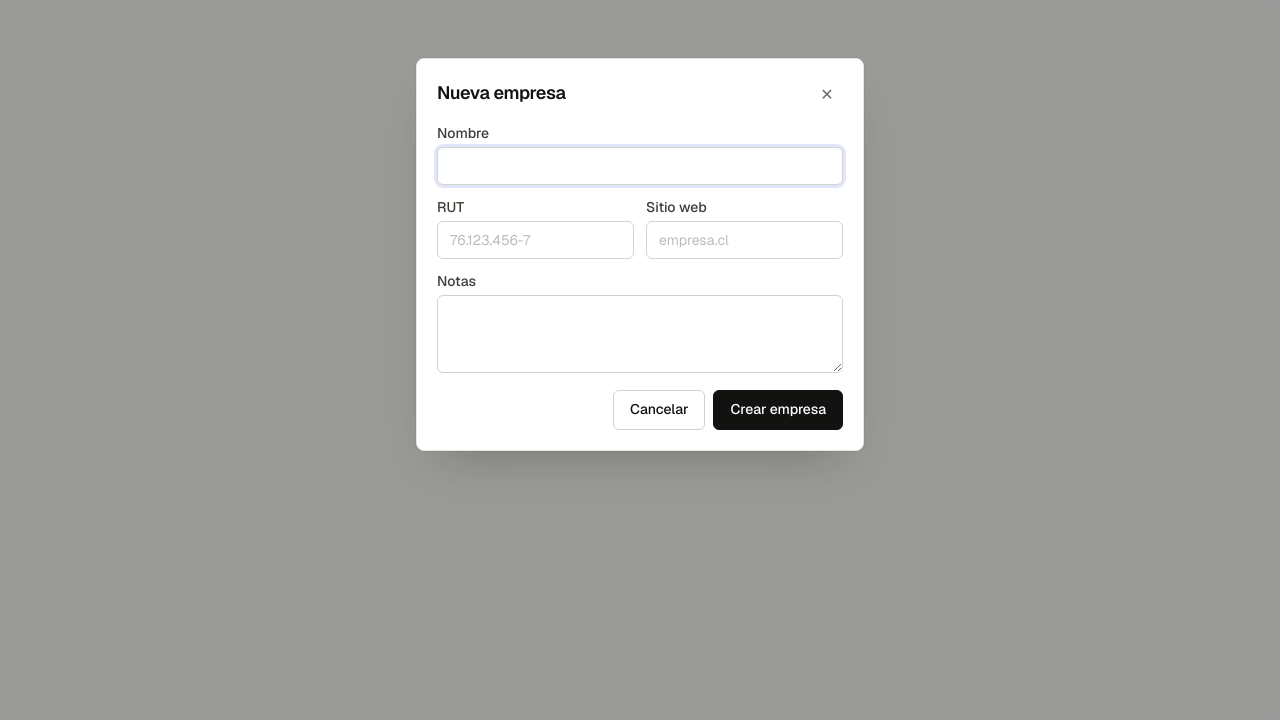
Scenario: EmpresaDialogo › al recibir 409 ofrece abrir la empresa existente
Later steps or results of the test are not shown.
Type "Sonda SA" into the field labelled "Nombre".
click(640, 166); type("Sonda SA")  # box left=437, top=147, right=843, bottom=185
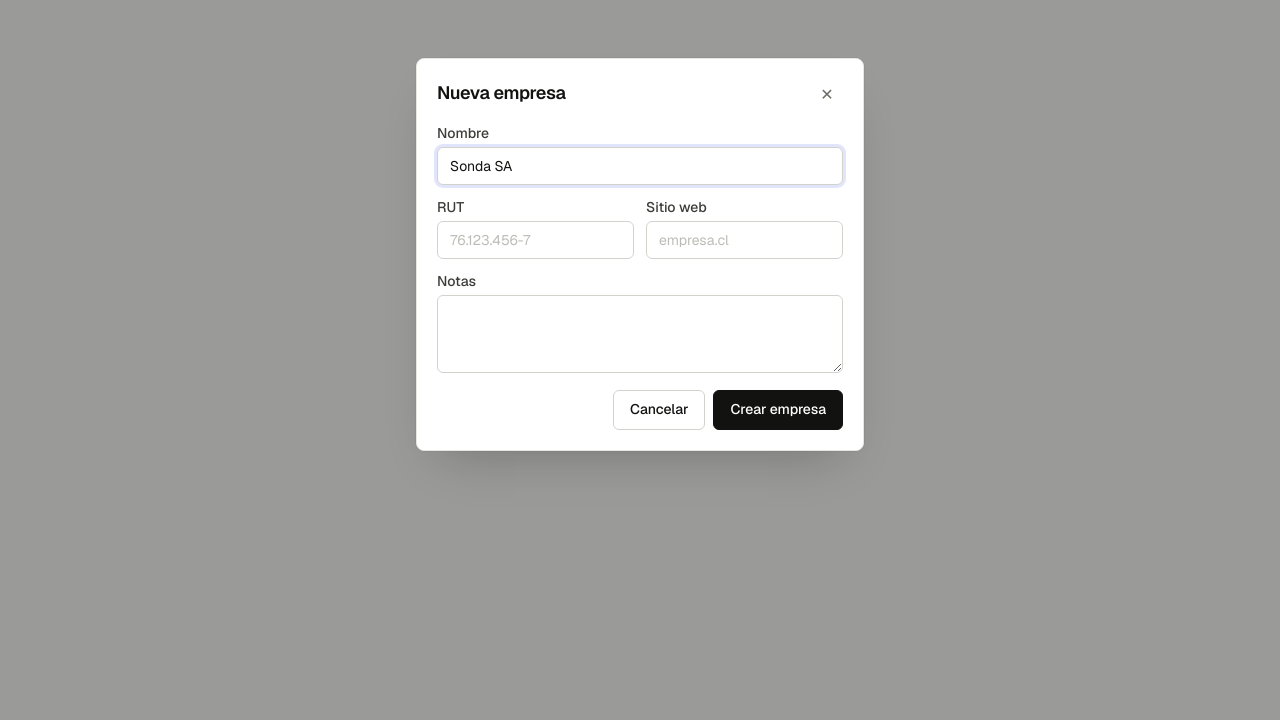
Click the button "Crear empresa".
click(778, 410)  # box left=714, top=390, right=843, bottom=430
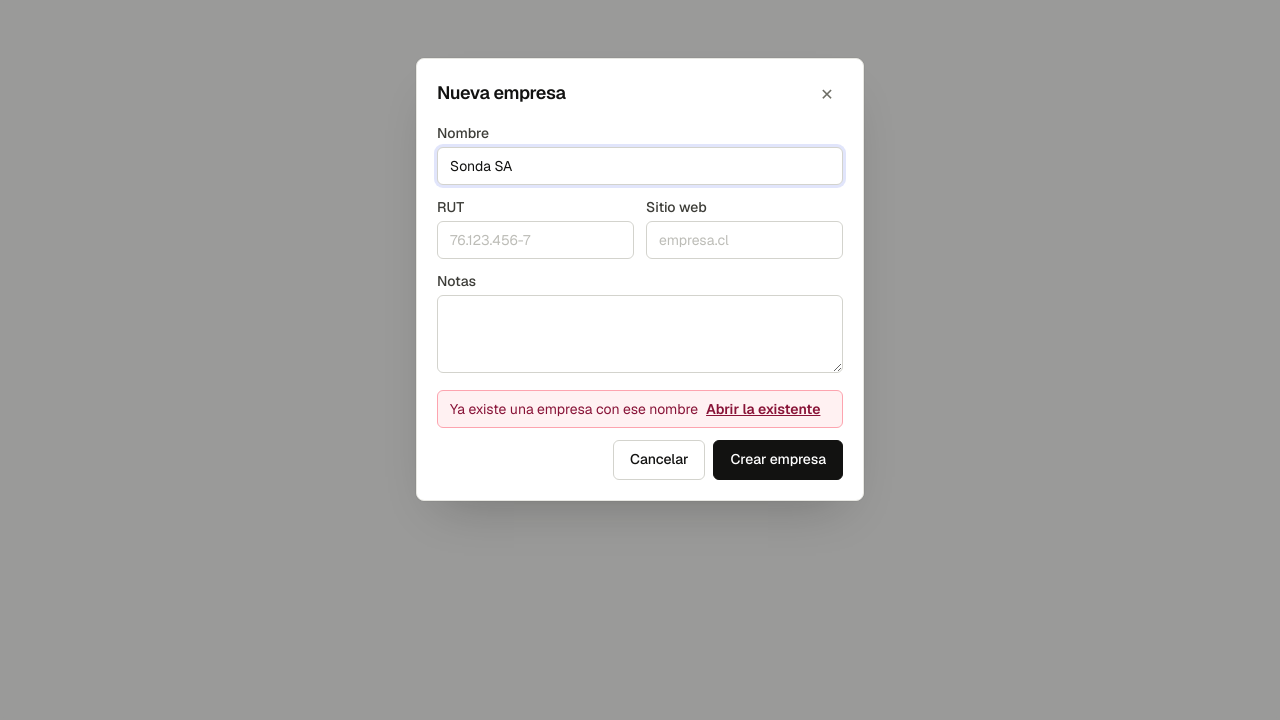
Expected: the message shows "Ya existe una empresa con ese nombre", left=450, top=400, right=698, bottom=418
